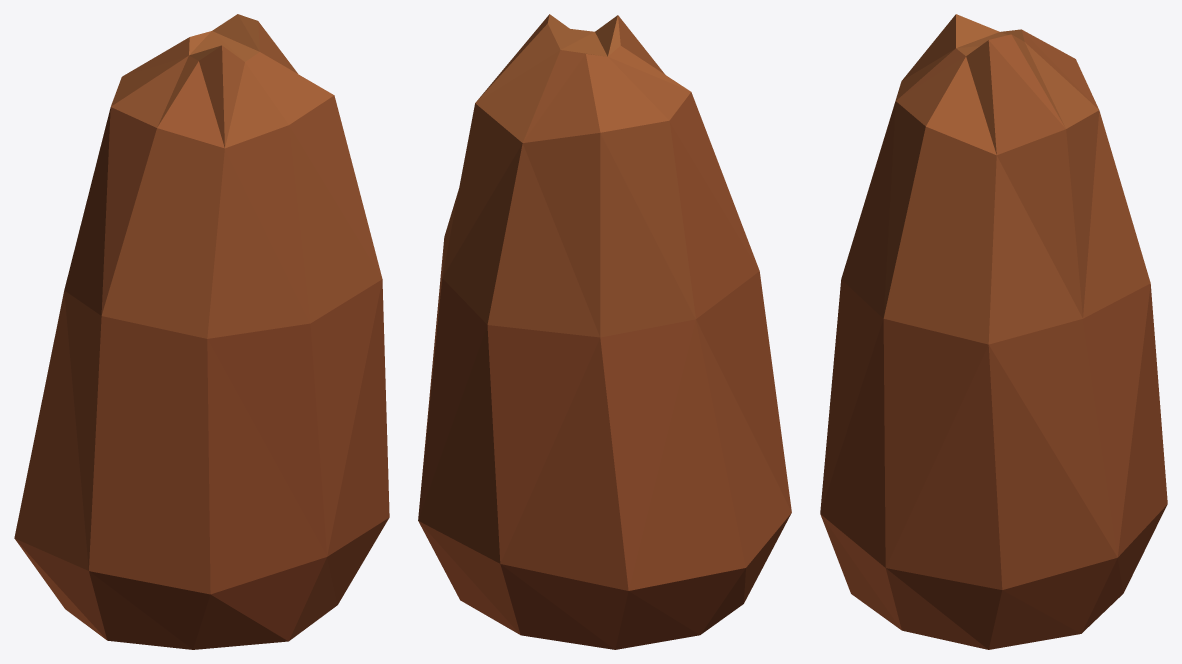
The model's file is RockTall.fbx.
3 views of the same model, side by side, from view 1: azimuth 30°, elevation 25°; view 2: azimuth 150°, elevation 25°; view 3: azimuth 270°, elevation 25° (orthographic).
Parts seen in each view (by area): view 1: RockTall; view 2: RockTall; view 3: RockTall.
Part boxes in pixels (x1,y1,x2,y2): RockTall: [14, 14, 389, 649]; RockTall: [418, 14, 791, 649]; RockTall: [820, 14, 1167, 649].
Bounding box in the file's own units: 1.64 × 2.71 × 1.49.
